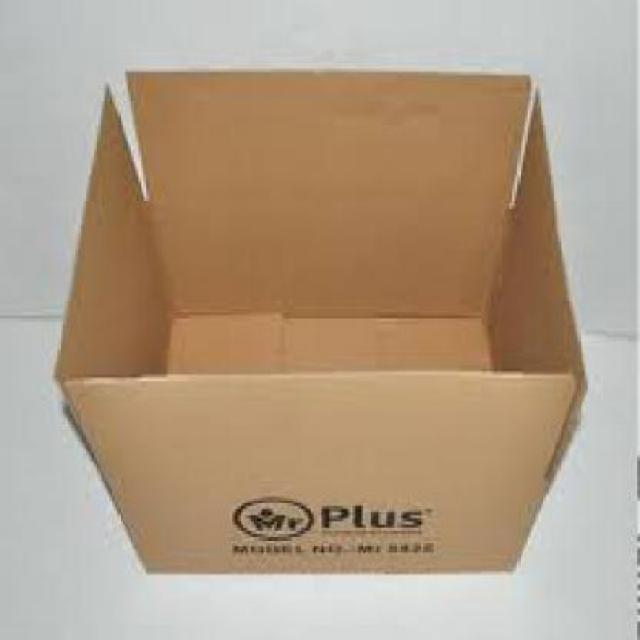CARDBOARD: (52, 66, 586, 572), (66, 374, 574, 574)
